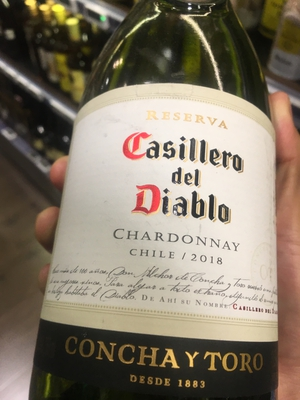casillero del diablo chardonnay: (28, 28, 280, 400)
